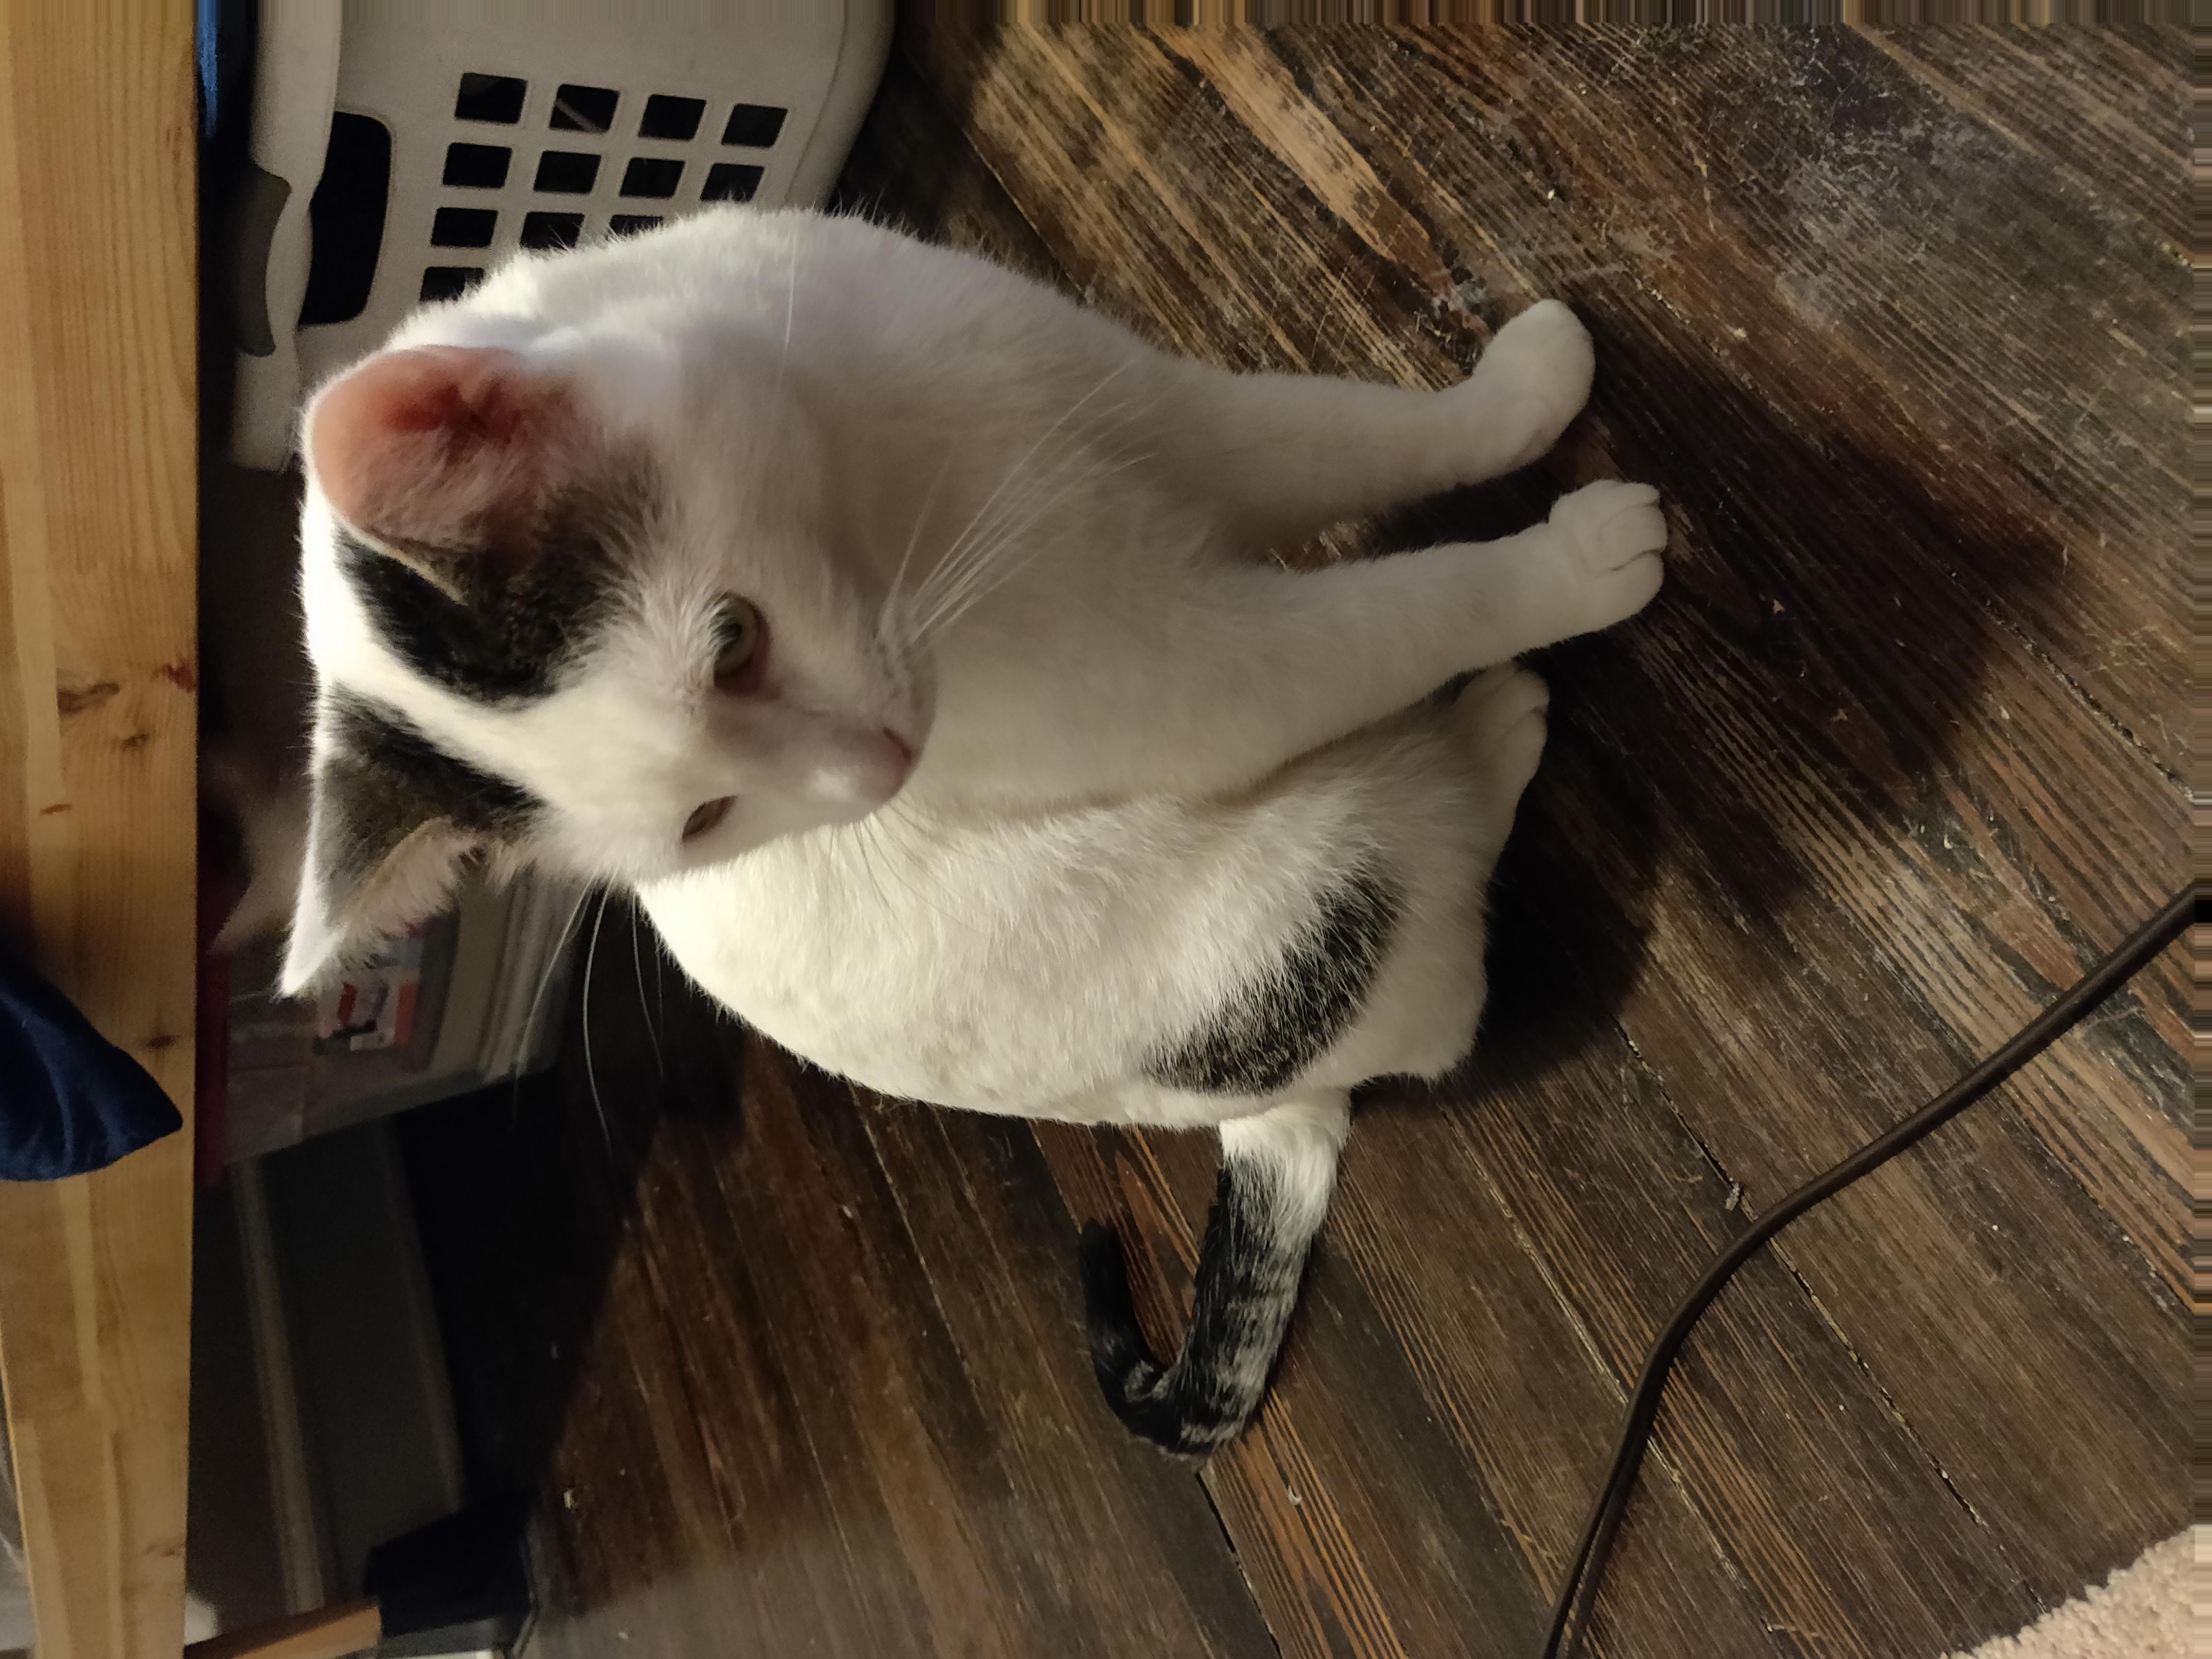cat: (301, 199, 1653, 1111)
